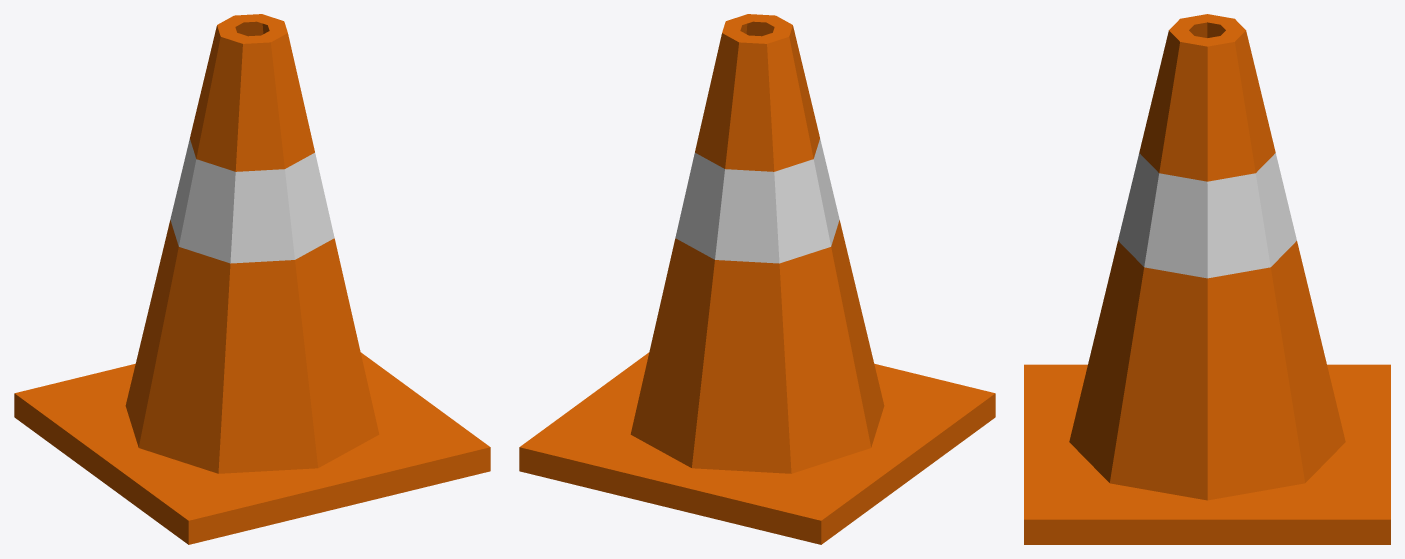
Rendered from duba.glb.
3 views of the same model, side by side, from view 1: azimuth 30°, elevation 25°; view 2: azimuth 150°, elevation 25°; view 3: azimuth 270°, elevation 25° (orthographic). The views are drawn at different scales.
Visible parts, largest first — view 1: duba; view 2: duba; view 3: duba.
Boxes of the visible parts, x1,y1,x2,y2 form: duba: (14,14,490,544); duba: (519,14,995,544); duba: (1024,14,1390,544).
Size of the model in its own units: 0.4089 by 0.5378 by 0.4089.
